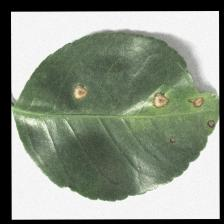canker: (64, 68, 222, 160)
